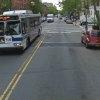Bus: (2, 5, 42, 56)
